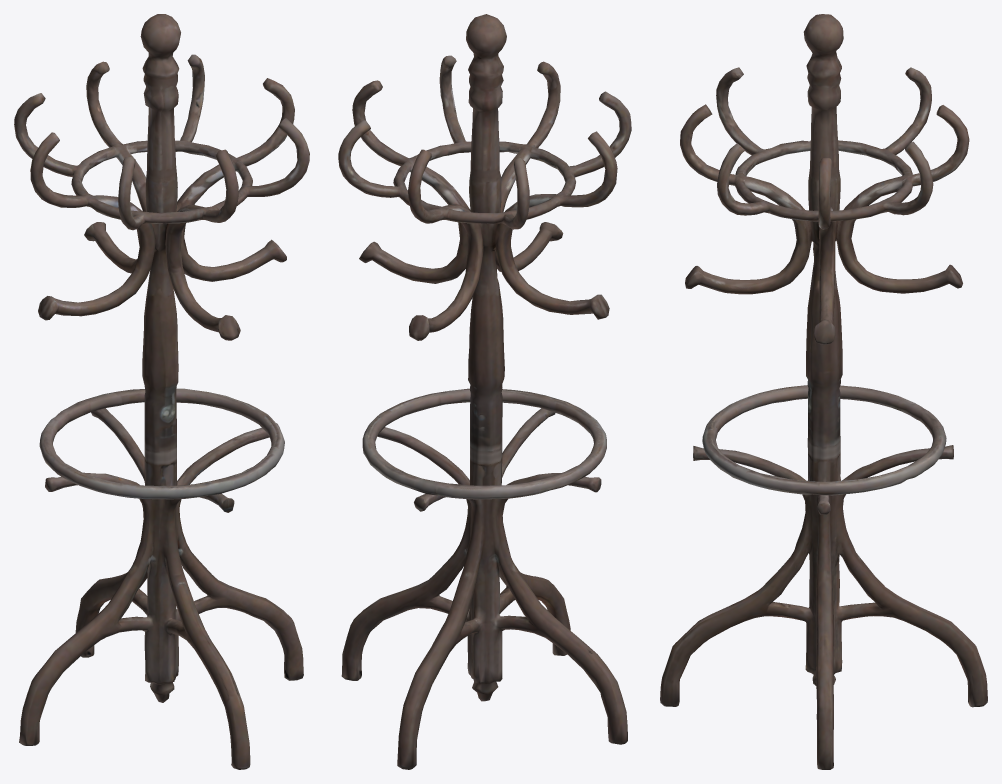
The model's file is Wooden_Coat_Rack_0123230034_texture.fbx.
The picture shows the model from 3 angles, left to right: view 1: azimuth 30°, elevation 25°; view 2: azimuth 150°, elevation 25°; view 3: azimuth 270°, elevation 25°; orthographic projection.
Visible parts, largest first — view 1: Mesh1_Mesh1.024; view 2: Mesh1_Mesh1.024; view 3: Mesh1_Mesh1.024.
Part boxes in pixels (x1,y1,x2,y2): Mesh1_Mesh1.024: [14, 14, 309, 769]; Mesh1_Mesh1.024: [338, 14, 631, 769]; Mesh1_Mesh1.024: [660, 14, 987, 769].
Size of the model in its own units: 85.31 by 200 by 86.42.
1 material, 1 textured.
